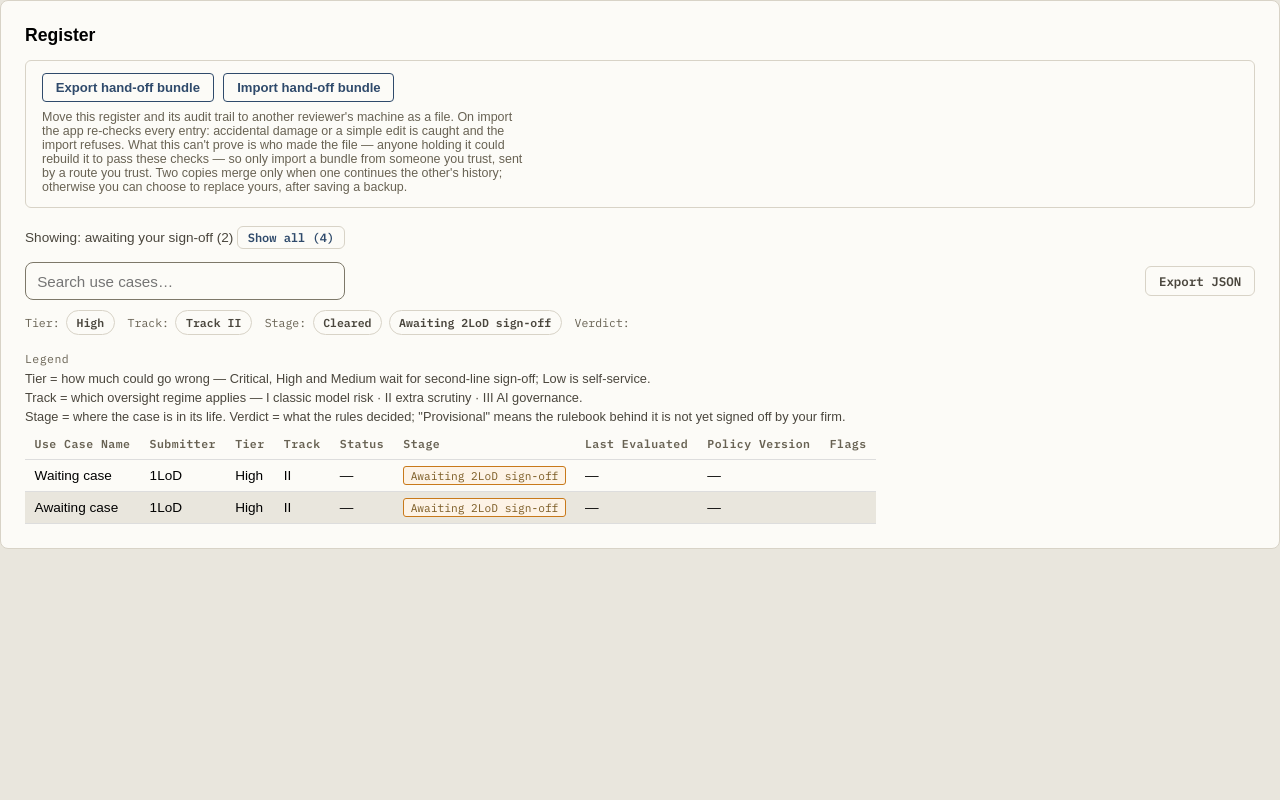
RegisterView — R15-C1 › TC-R15-C1-03: 2LoD default view shows only rows awaiting sign-off, with a Show-all toggle that reveals everything
The image size is (1280, 800).
Expected: the button "Waiting case" is shown, top-left (35, 468), bottom-right (112, 482)
Expected: the text "Show-all cleared case" is not shown
Click the button "Show all (4)".
click(291, 238)  # box top-left (237, 226), bottom-right (345, 249)
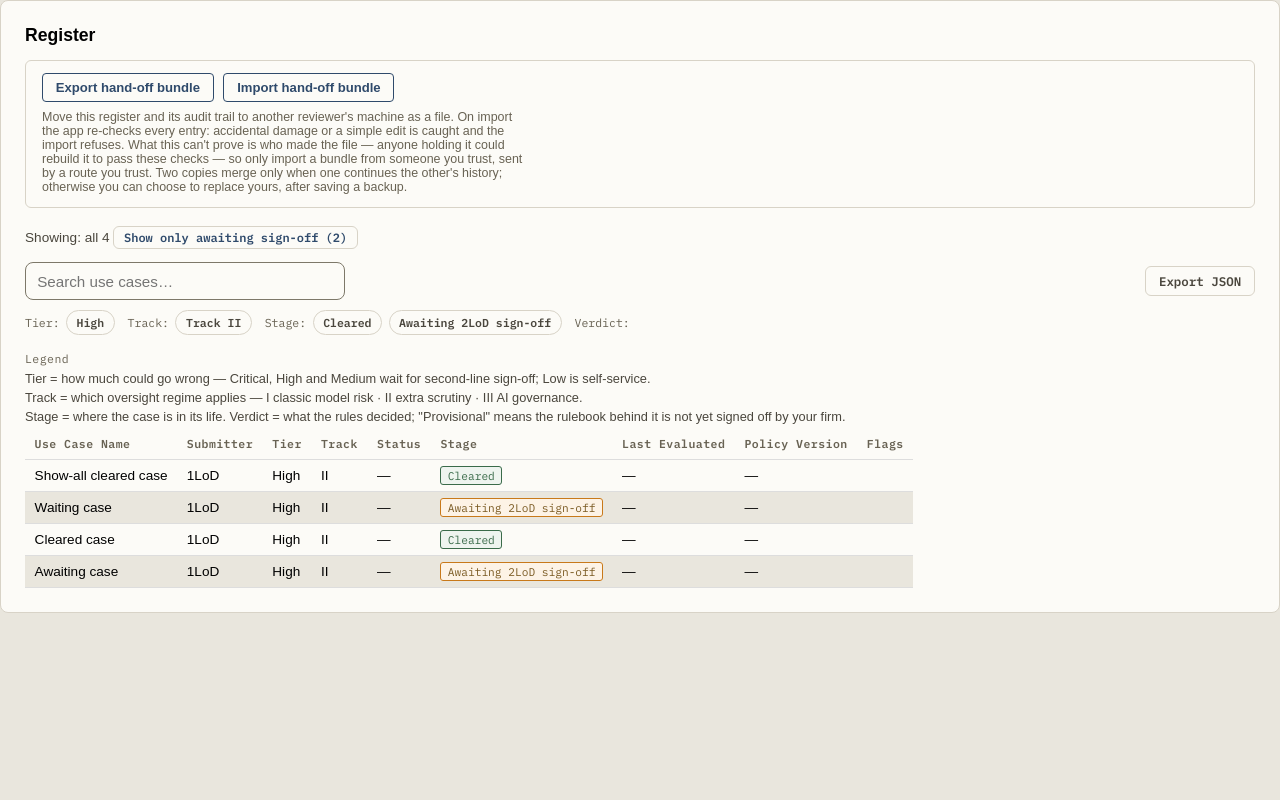
Expected: the button "Waiting case" is shown, top-left (35, 500), bottom-right (112, 514)
Now the button "Show-all cleared case" is shown, box top-left (35, 468), bottom-right (168, 482)
